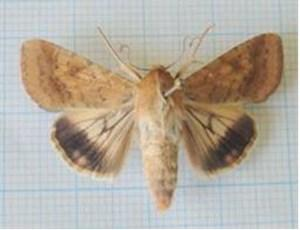insect: (18, 23, 289, 213)
